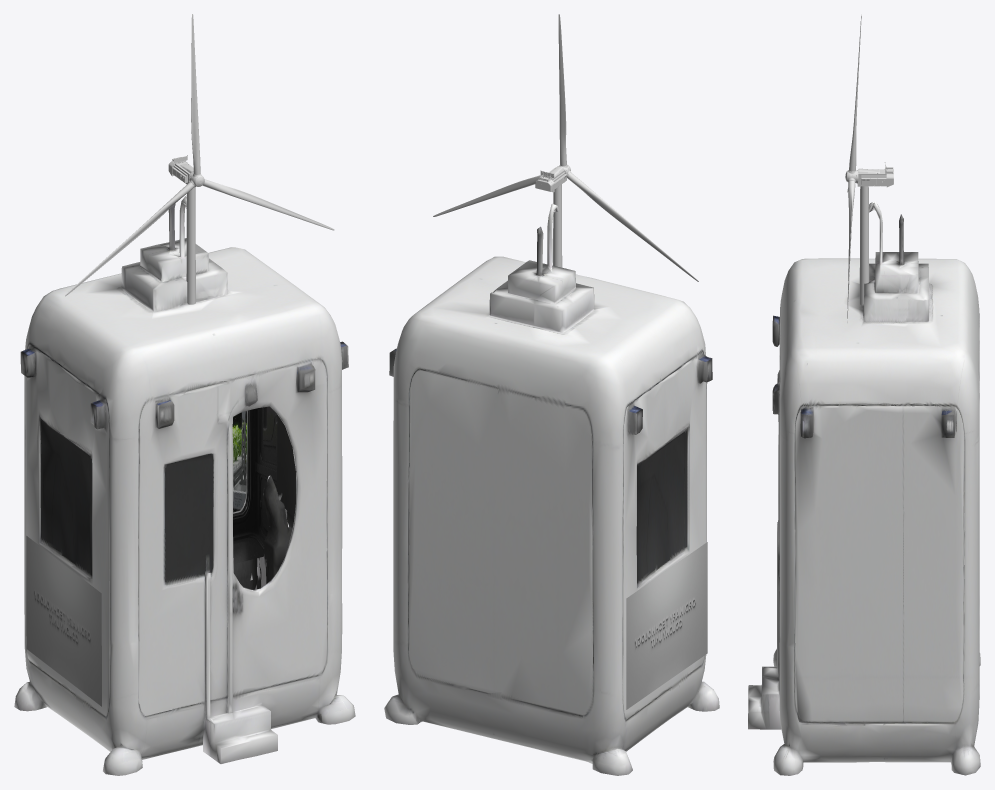
File: colony1.glb
3 renders of one model, left to right at view 1: azimuth 30°, elevation 25°; view 2: azimuth 150°, elevation 25°; view 3: azimuth 270°, elevation 25°, orthographic.
Parts seen in each view (by area): view 1: Mesh_0.001, Plane.001, Plane, Rotor, Tower; view 2: Mesh_0.001, Plane.001, Rotor, Tower; view 3: Mesh_0.001, Rotor, Tower, Hub.
Boxes of the visible parts, left/top/right/bottom form: Mesh_0.001: left=14, top=196, right=355, bottom=775; Plane.001: left=26, top=536, right=101, bottom=706; Plane: left=232, top=406, right=277, bottom=563; Rotor: left=65, top=14, right=334, bottom=296; Tower: left=186, top=187, right=195, bottom=304; Mesh_0.001: left=384, top=203, right=719, bottom=775; Plane.001: left=626, top=542, right=707, bottom=709; Rotor: left=433, top=14, right=698, bottom=281; Tower: left=553, top=184, right=562, bottom=267; Mesh_0.001: left=748, top=201, right=980, bottom=775; Rotor: left=845, top=14, right=861, bottom=322; Tower: left=859, top=186, right=869, bottom=305; Hub: left=857, top=162, right=893, bottom=187.
Bounding box in the file's own units: 204 × 509 × 153.
Materials: 8 (3 with a texture image).
